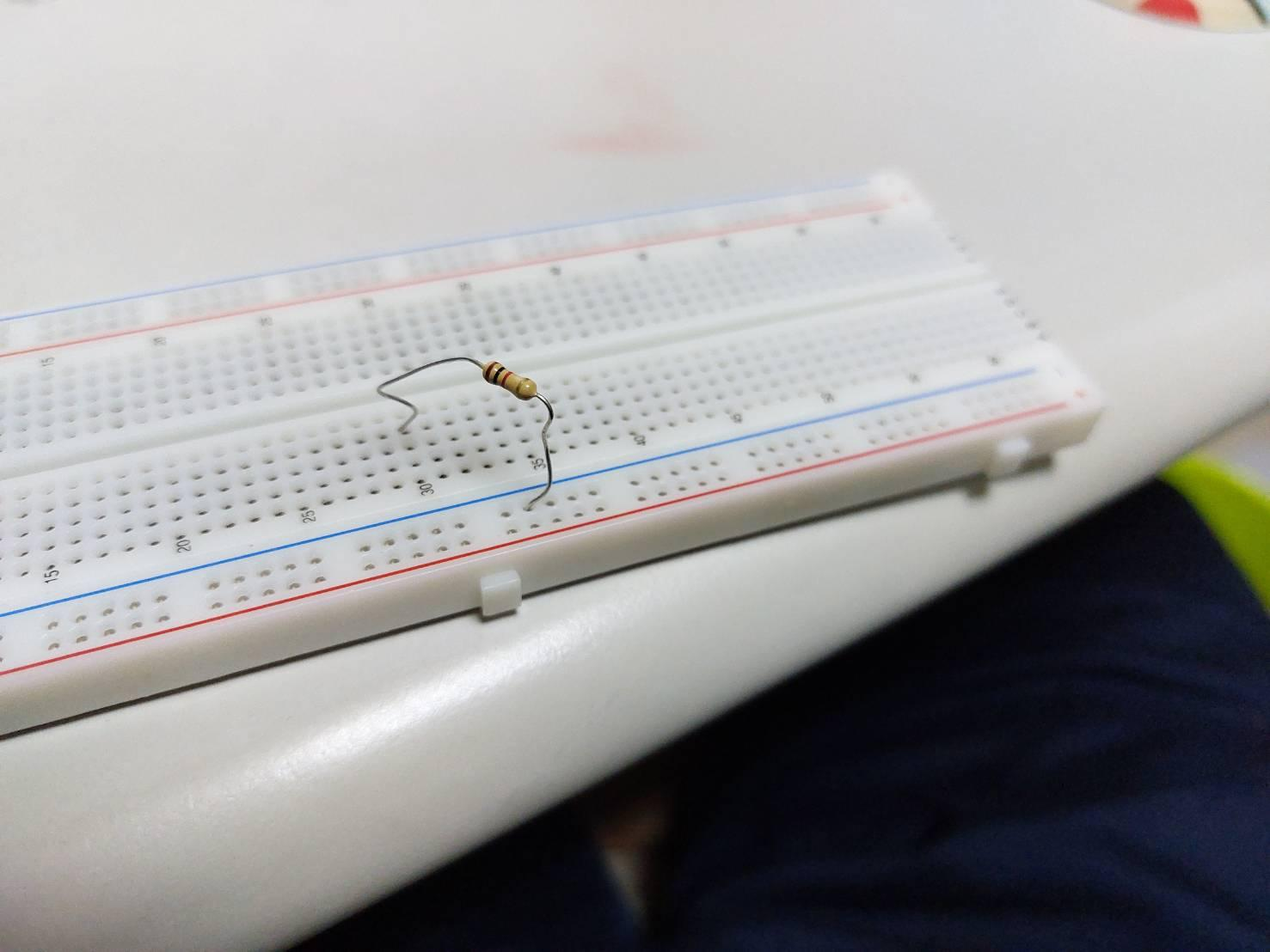resistor: (482, 361, 537, 401)
